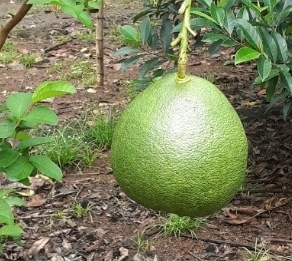Buoi: (109, 73, 258, 223)
